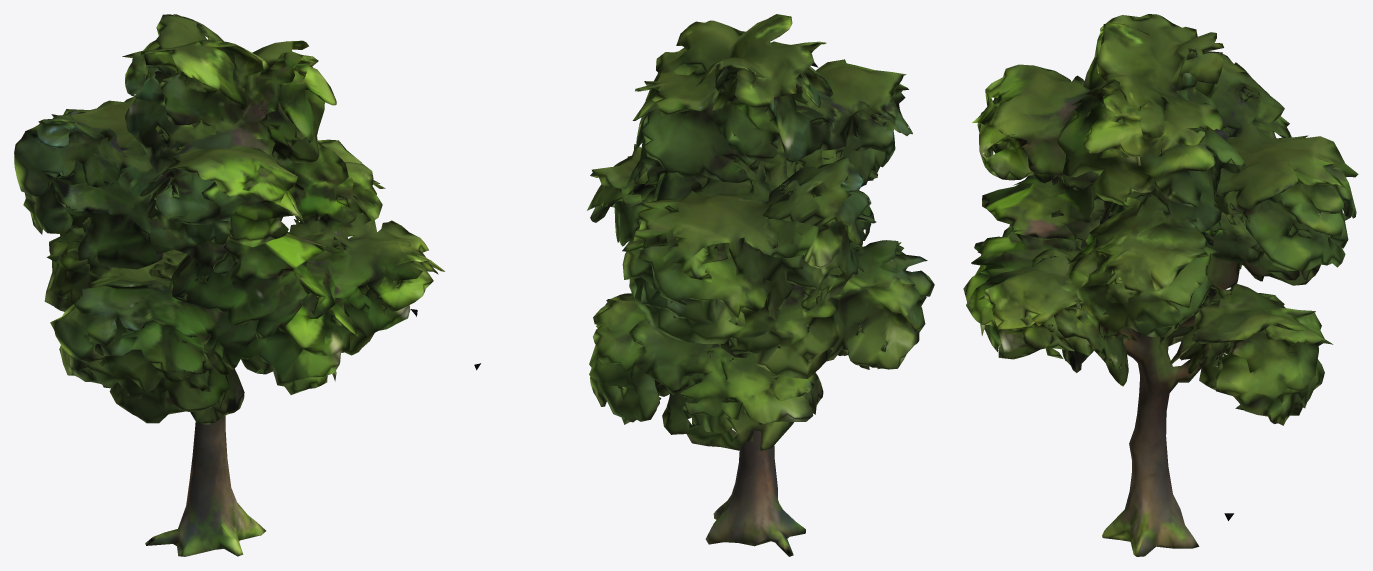
File: AI_EmergentJungleTree.fbx
3 views of the same model, side by side, from view 1: azimuth 30°, elevation 25°; view 2: azimuth 150°, elevation 25°; view 3: azimuth 270°, elevation 25° (orthographic). The views are drawn at different scales.
Parts seen in each view (by area): view 1: Mesh_0; view 2: Mesh_0; view 3: Mesh_0.
Part boxes in pixels (<box>): Mesh_0: <box>14,14,444,556</box>; Mesh_0: <box>474,14,934,556</box>; Mesh_0: <box>963,14,1358,556</box>.
Bounding box in the file's own units: 165 × 200 × 142.
Materials: 1 (1 with a texture image).
